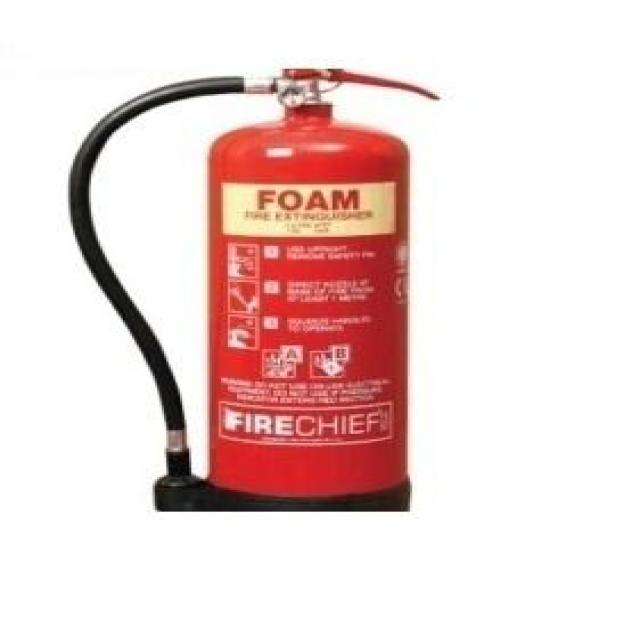fire_extinguisher: (62, 64, 448, 514)
